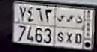3: (44, 8, 53, 44)
4: (26, 7, 34, 44)
6: (34, 6, 44, 44)
7: (17, 4, 26, 42)
D: (75, 15, 84, 47)
S: (55, 14, 65, 45)
X: (65, 13, 74, 44)
